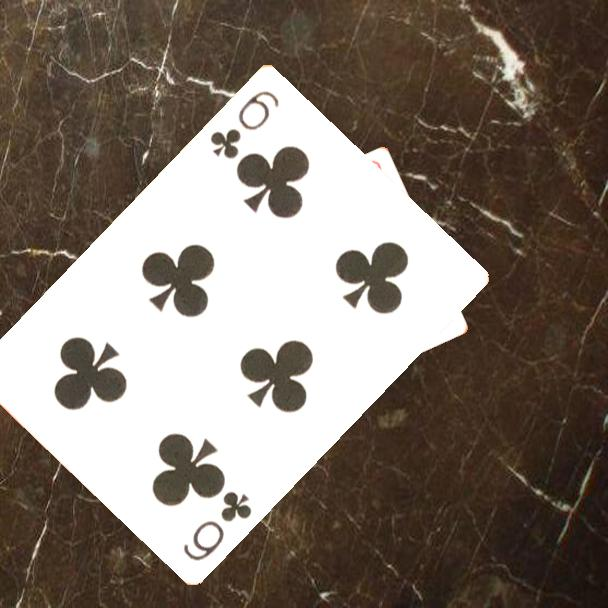c06: (179, 486, 255, 564), (206, 86, 282, 162)
